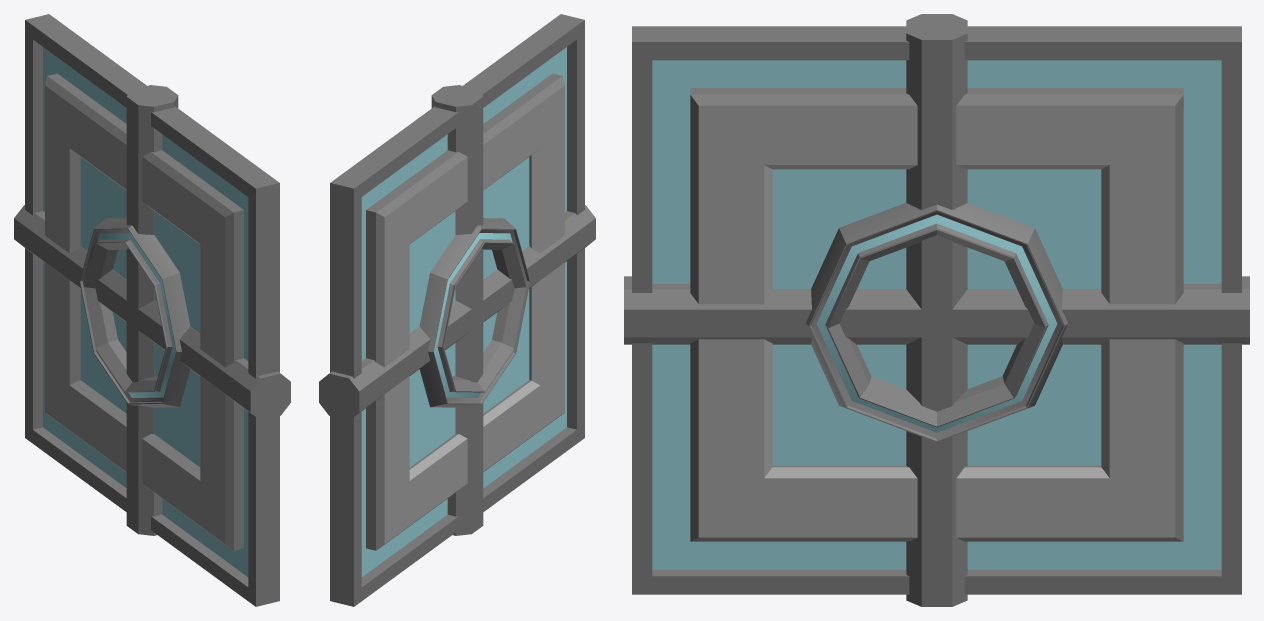
The model's file is door.fbx.
The picture shows the model from 3 angles, left to right: view 1: azimuth 30°, elevation 25°; view 2: azimuth 150°, elevation 25°; view 3: azimuth 270°, elevation 25°; orthographic projection. The views are drawn at different scales.
Visible parts, largest first — view 1: pCube30; view 2: pCube30; view 3: pCube30.
Part boxes in pixels (box(x1,y1,x2,y2)): pCube30: box(14, 14, 290, 606); pCube30: box(319, 14, 595, 606); pCube30: box(624, 14, 1249, 606).
Size of the model in its own units: 8.25 by 61.16 by 61.16.
